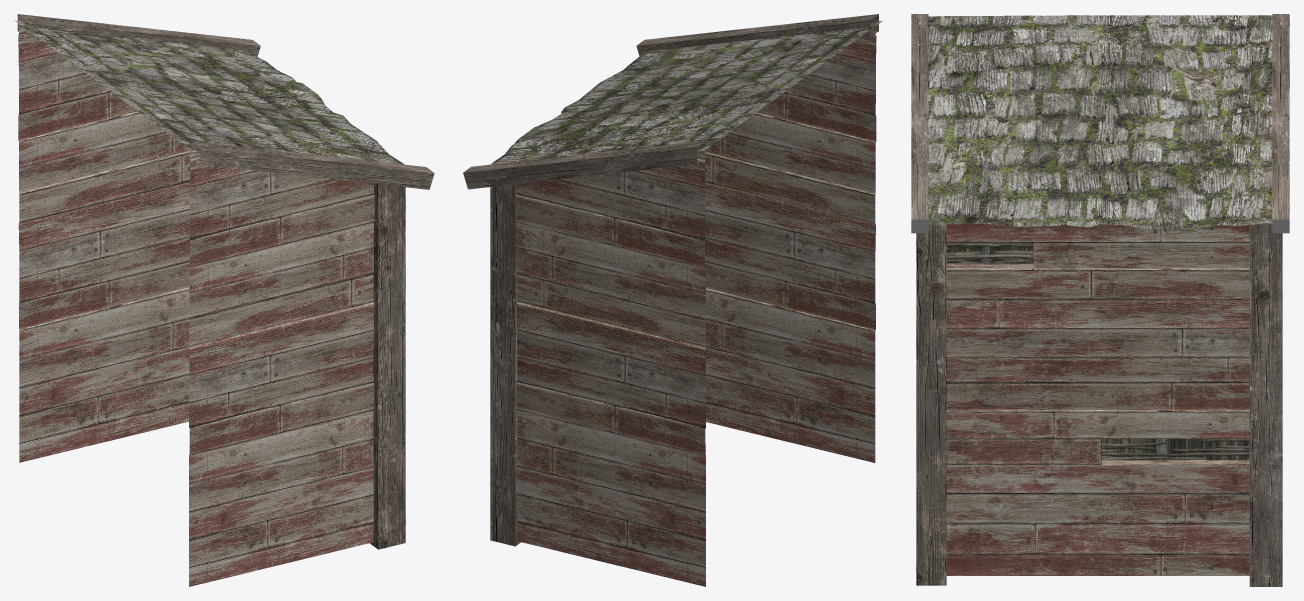
File: Shed6.fbx
The picture shows the model from 3 angles, left to right: view 1: azimuth 30°, elevation 25°; view 2: azimuth 150°, elevation 25°; view 3: azimuth 270°, elevation 25°; orthographic projection. The views are drawn at different scales.
Parts seen in each view (by area): view 1: Annex_3; view 2: Annex_3; view 3: Annex_3.
Boxes of the visible parts, left/top/right/bottom form: Annex_3: left=15, top=14, right=434, bottom=586; Annex_3: left=463, top=14, right=882, bottom=586; Annex_3: left=911, top=14, right=1289, bottom=586.
Size of the model in its own units: 2.45 by 4.35 by 3.2.
